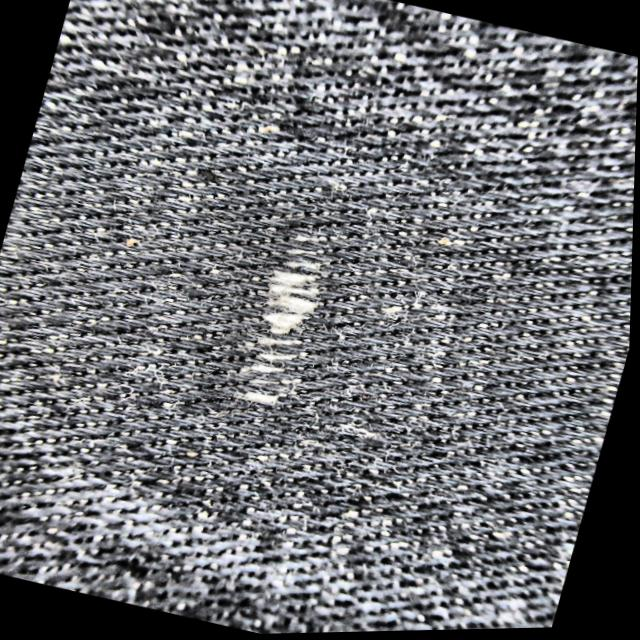Hole: (247, 230, 327, 404)
